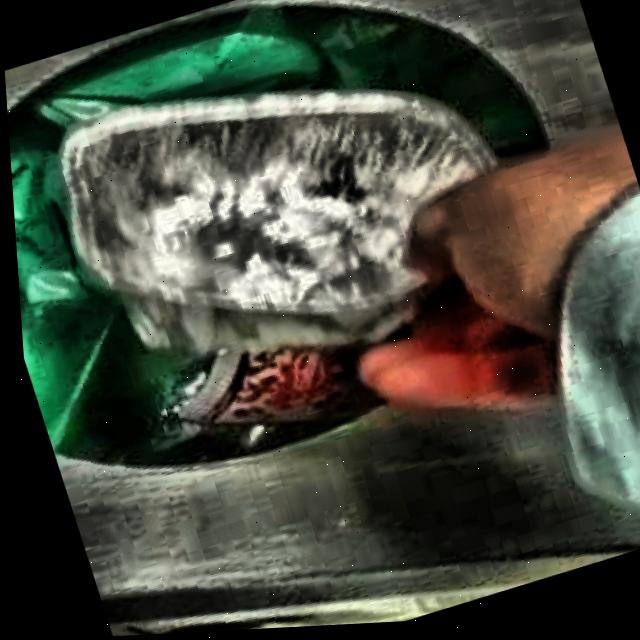metal: (56, 93, 495, 355)
